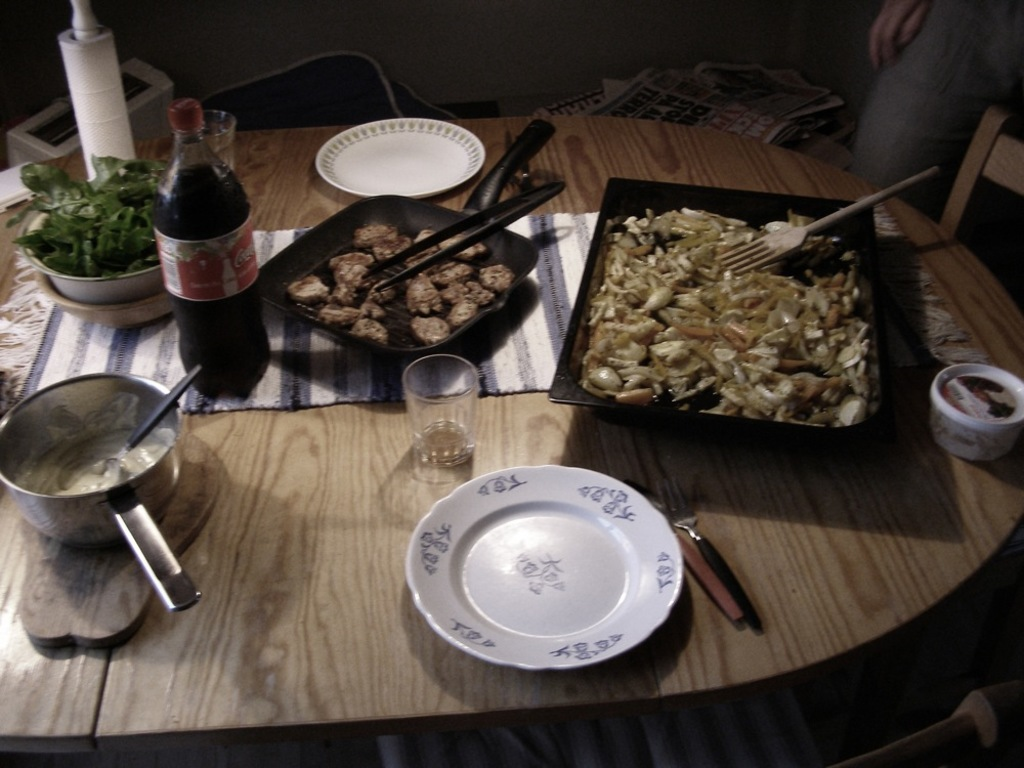plate: (410, 462, 678, 661)
